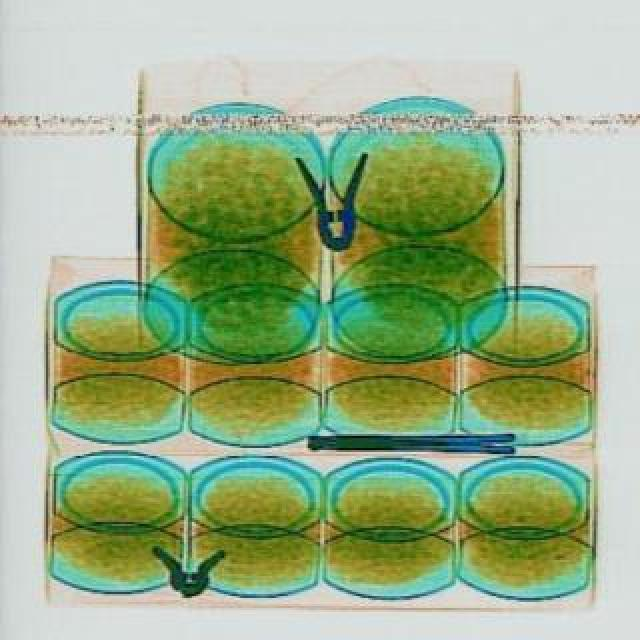wrench: (294, 150, 372, 250), (304, 430, 512, 450)
